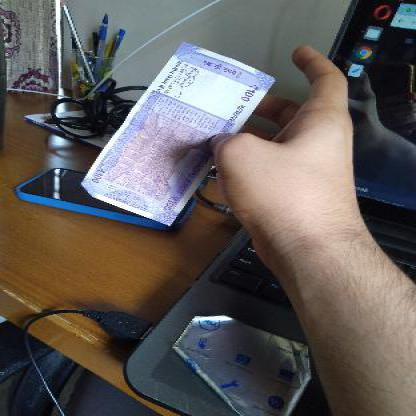New100Back: (88, 40, 261, 214)
